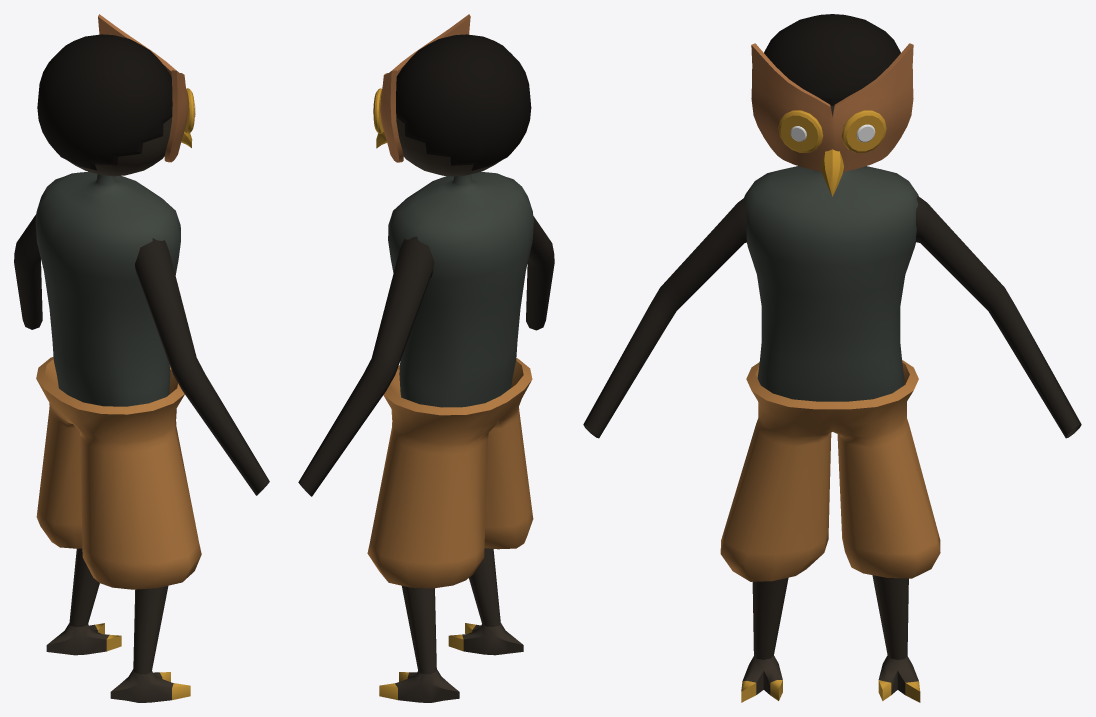
File: C_CornowliusBraveheart_Arm_01.fbx
3 views of the same model, side by side, from view 1: azimuth 30°, elevation 25°; view 2: azimuth 150°, elevation 25°; view 3: azimuth 270°, elevation 25° (orthographic). The views are drawn at different scales.
Visible parts, largest first — view 1: P_short_01, P_Bust_01, P_head_01, Cylinder.001, P_Legs_01, P_Mask_01; view 2: P_short_01, P_Bust_01, P_head_01, Cylinder.001, P_Legs_01, P_Mask_01; view 3: P_Bust_01, P_short_01, Cylinder.001, P_Mask_01, P_head_01, P_Legs_01.
Boxes of the visible parts, left/top/right/bottom form: P_short_01: left=36, top=357, right=201, bottom=589; P_Bust_01: left=35, top=171, right=180, bottom=406; P_head_01: left=37, top=34, right=172, bottom=176; Cylinder.001: left=14, top=214, right=269, bottom=495; P_Legs_01: left=46, top=548, right=190, bottom=702; P_Mask_01: left=98, top=14, right=195, bottom=162; P_short_01: left=367, top=358, right=533, bottom=588; P_Bust_01: left=388, top=172, right=533, bottom=407; P_head_01: left=396, top=34, right=531, bottom=176; Cylinder.001: left=298, top=216, right=554, bottom=496; P_Legs_01: left=379, top=548, right=523, bottom=702; P_Mask_01: left=373, top=14, right=470, bottom=162; P_Bust_01: left=743, top=166, right=918, bottom=401; P_short_01: left=720, top=360, right=940, bottom=581; Cylinder.001: left=583, top=196, right=1081, bottom=438; P_Mask_01: left=751, top=43, right=913, bottom=196; P_head_01: left=764, top=14, right=900, bottom=115; P_Legs_01: left=741, top=575, right=920, bottom=702.
Bounding box in the file's own units: 34.15 × 142 × 97.11.
